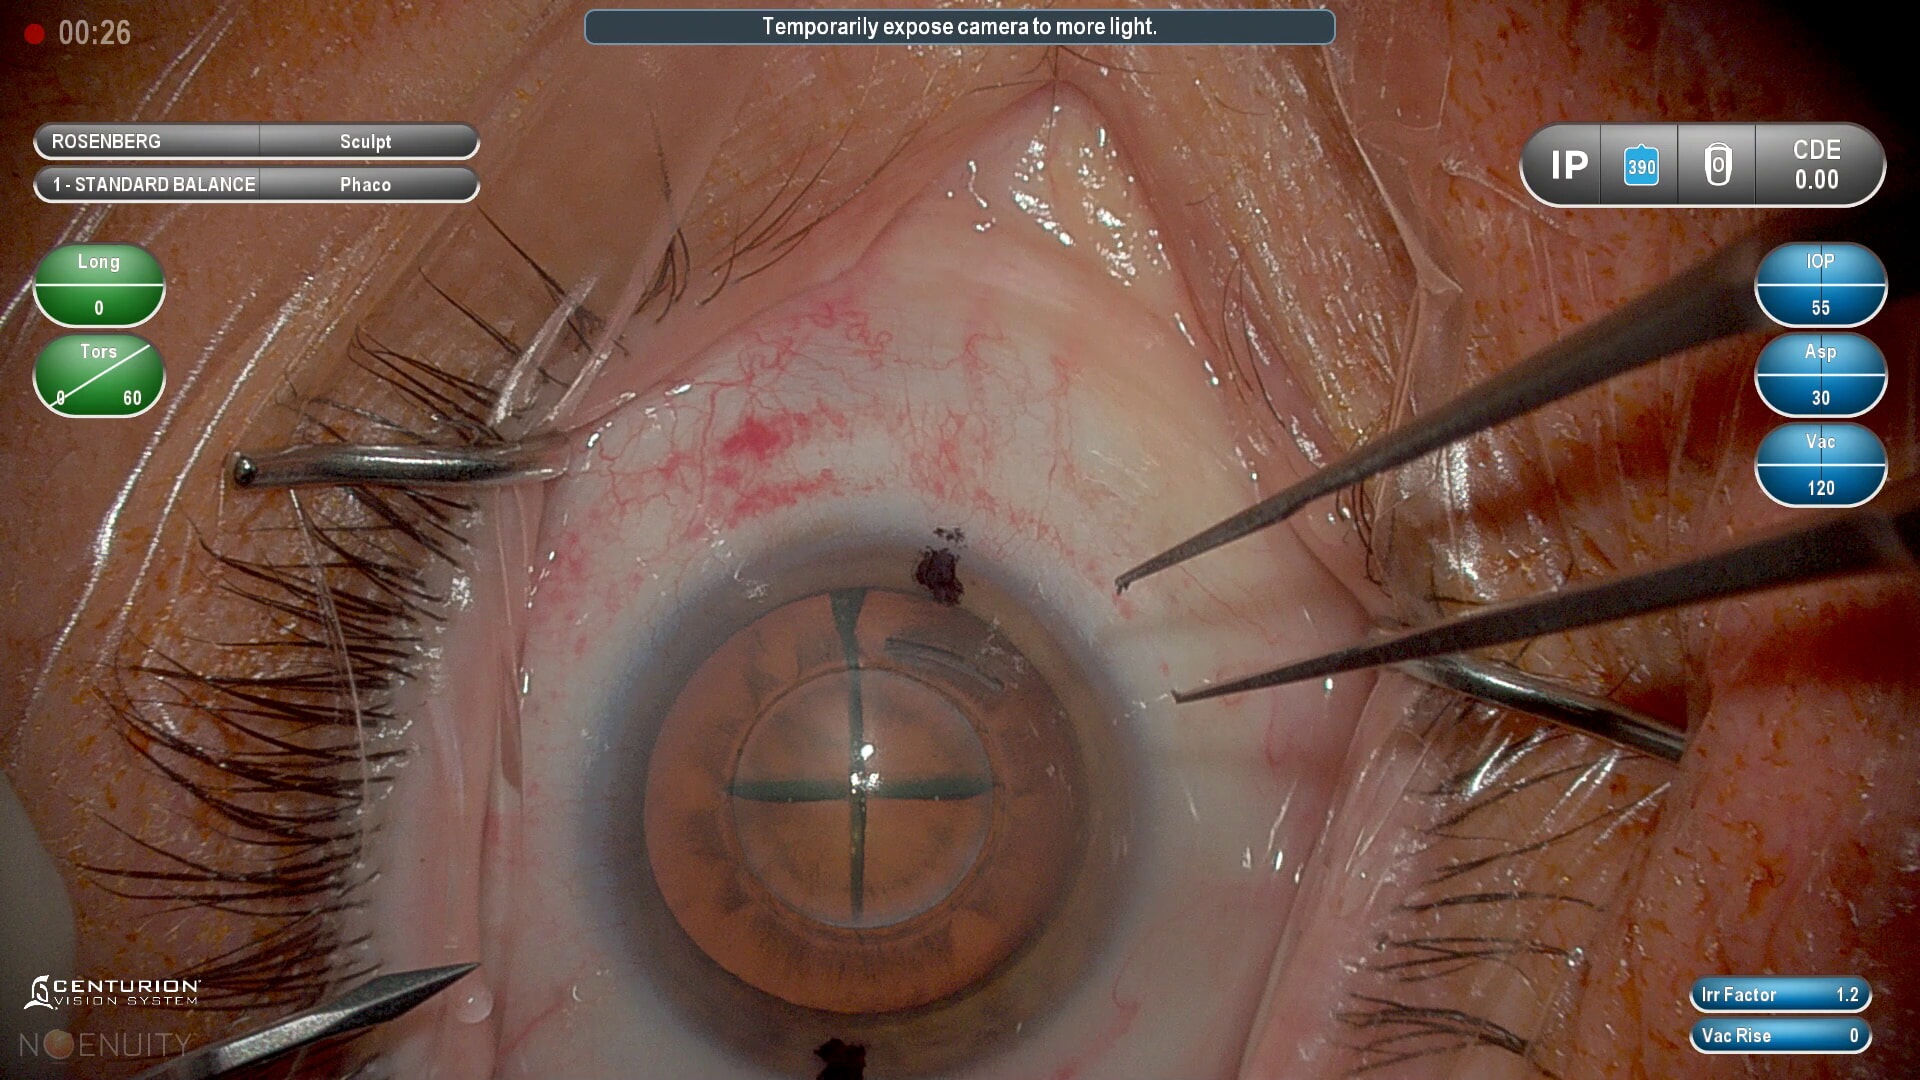iris: (605, 543, 1132, 1080)
pupil: (647, 585, 1094, 1017)
